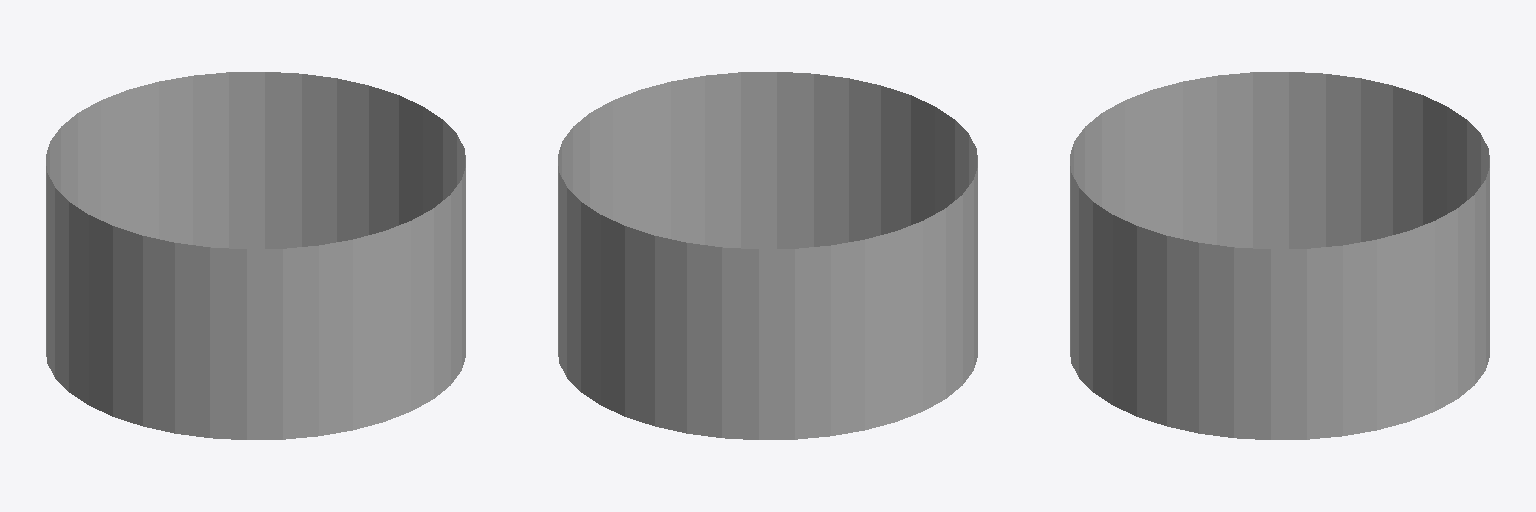
Rendered from original-51.obj.
3 renders of one model, left to right at view 1: azimuth 30°, elevation 25°; view 2: azimuth 150°, elevation 25°; view 3: azimuth 270°, elevation 25°, orthographic.
Parts seen in each view (by area): view 1: #ID269; view 2: #ID269; view 3: #ID269.
Part boxes in pixels (bbox=[...]): #ID269: bbox=[46, 72, 465, 439]; #ID269: bbox=[558, 72, 977, 439]; #ID269: bbox=[1070, 72, 1489, 439].
Bounding box in the file's own units: 0.0464 × 0.0232 × 0.0464.